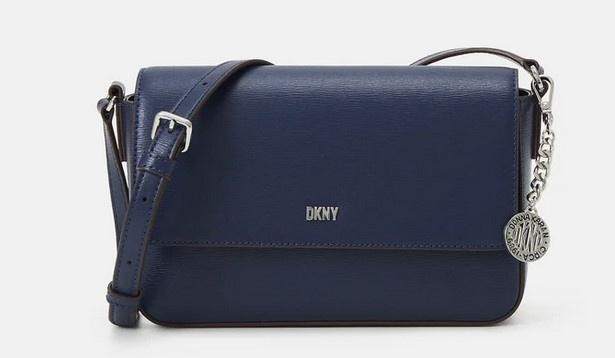DKNY: (306, 206, 339, 221)
